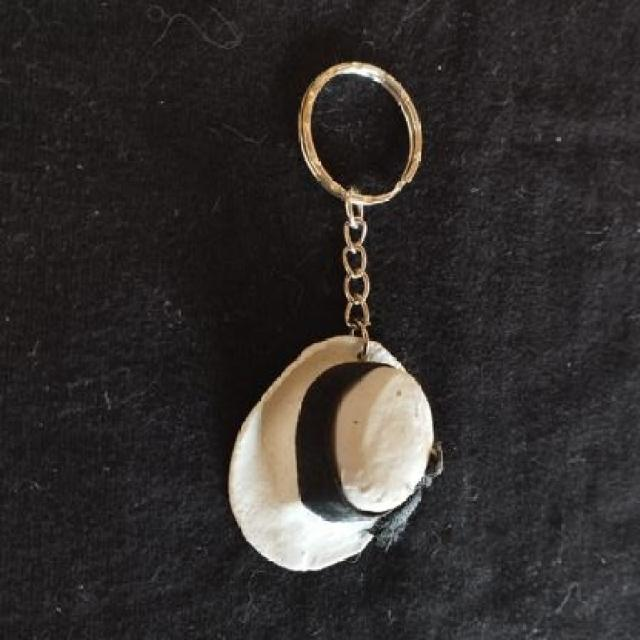Llavero: (226, 333, 443, 573)
